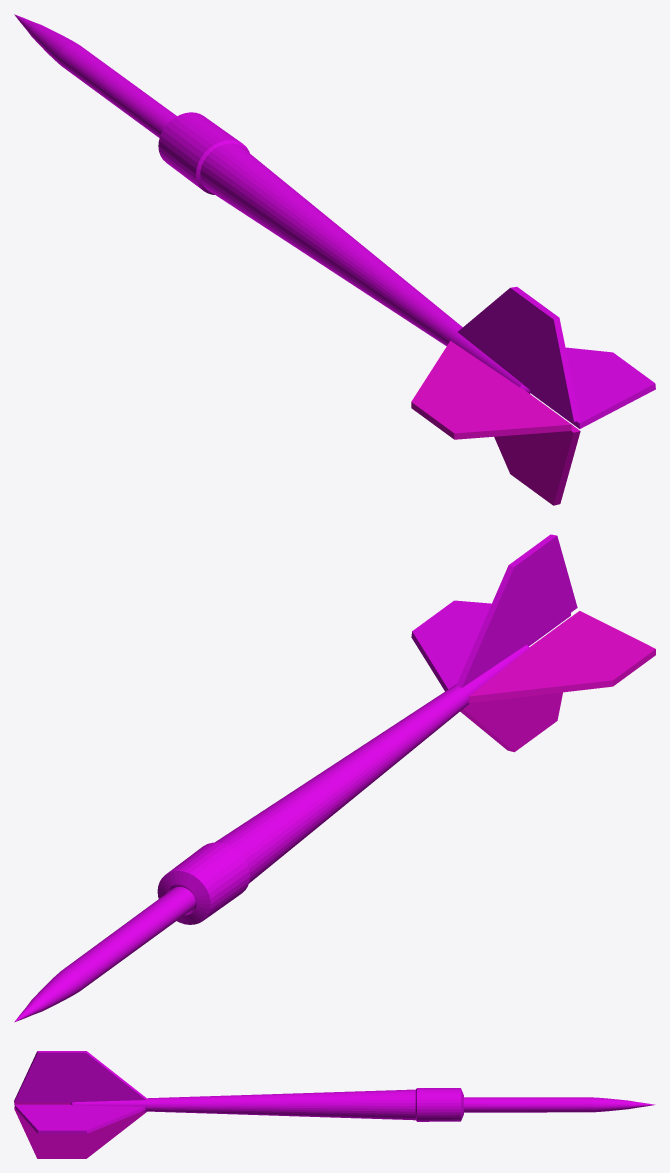
The model's file is dart 1.fbx.
3 views of the same model, one above another, from view 1: azimuth 30°, elevation 25°; view 2: azimuth 150°, elevation 25°; view 3: azimuth 270°, elevation 25° (orthographic). The views are drawn at different scales.
Visible parts, largest first — view 1: Sphere, Cube.001, Cube; view 2: Sphere, Cube.001, Cube; view 3: Sphere, Cube.
Part boxes in pixels (bbox=[...]): Sphere: bbox=[14, 14, 655, 428]; Cube.001: bbox=[411, 341, 571, 439]; Cube: bbox=[494, 394, 580, 505]; Sphere: bbox=[14, 534, 577, 1022]; Cube.001: bbox=[468, 611, 655, 703]; Cube: bbox=[460, 619, 567, 752]; Sphere: bbox=[14, 1051, 655, 1133]; Cube: bbox=[14, 1107, 146, 1158].
Bounding box in the file's own units: 225 × 198 × 1088.
